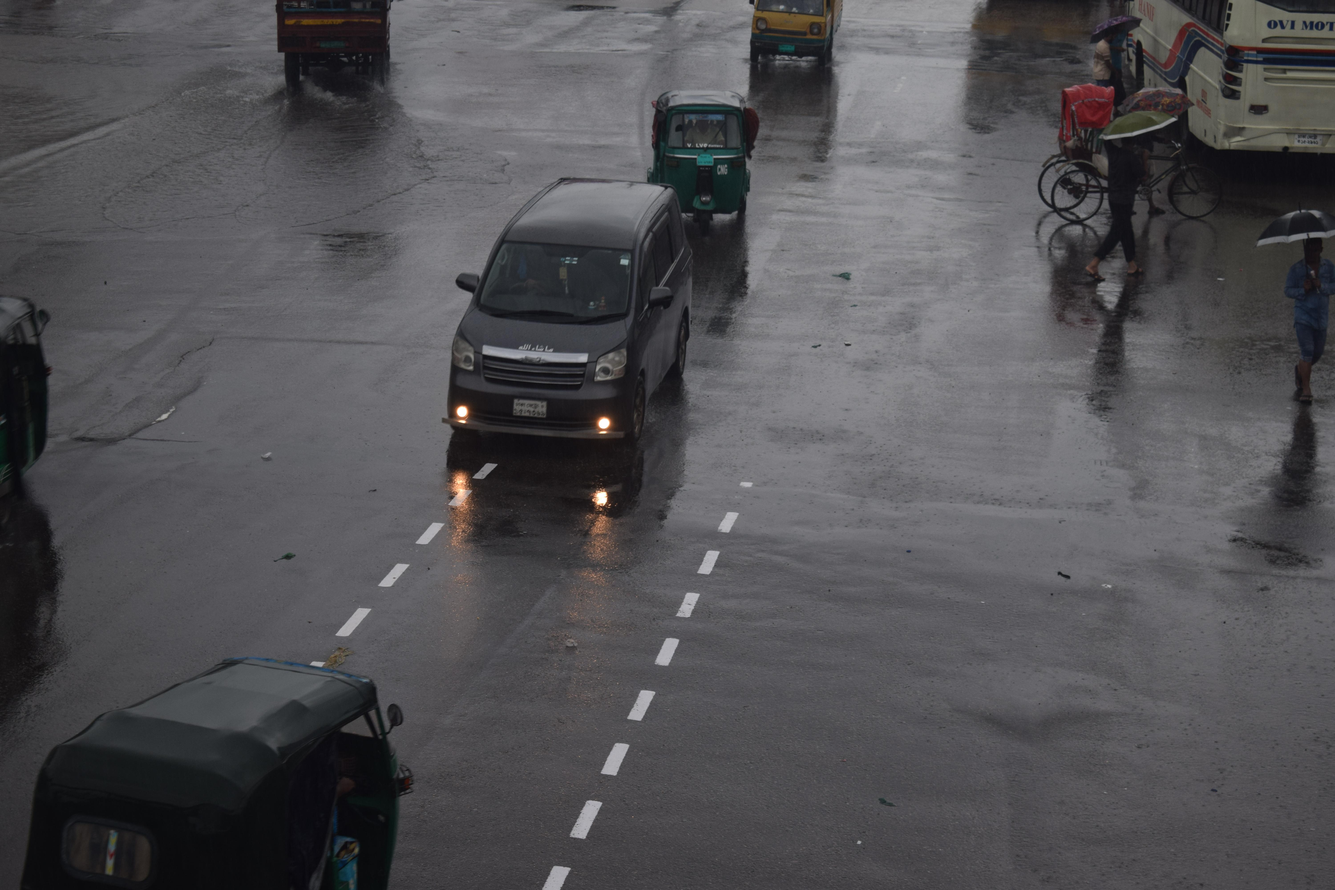Bus: (1089, 0, 1335, 184)
Car: (415, 149, 733, 520), (1032, 68, 1235, 279), (253, 0, 419, 108), (718, 0, 876, 89)
